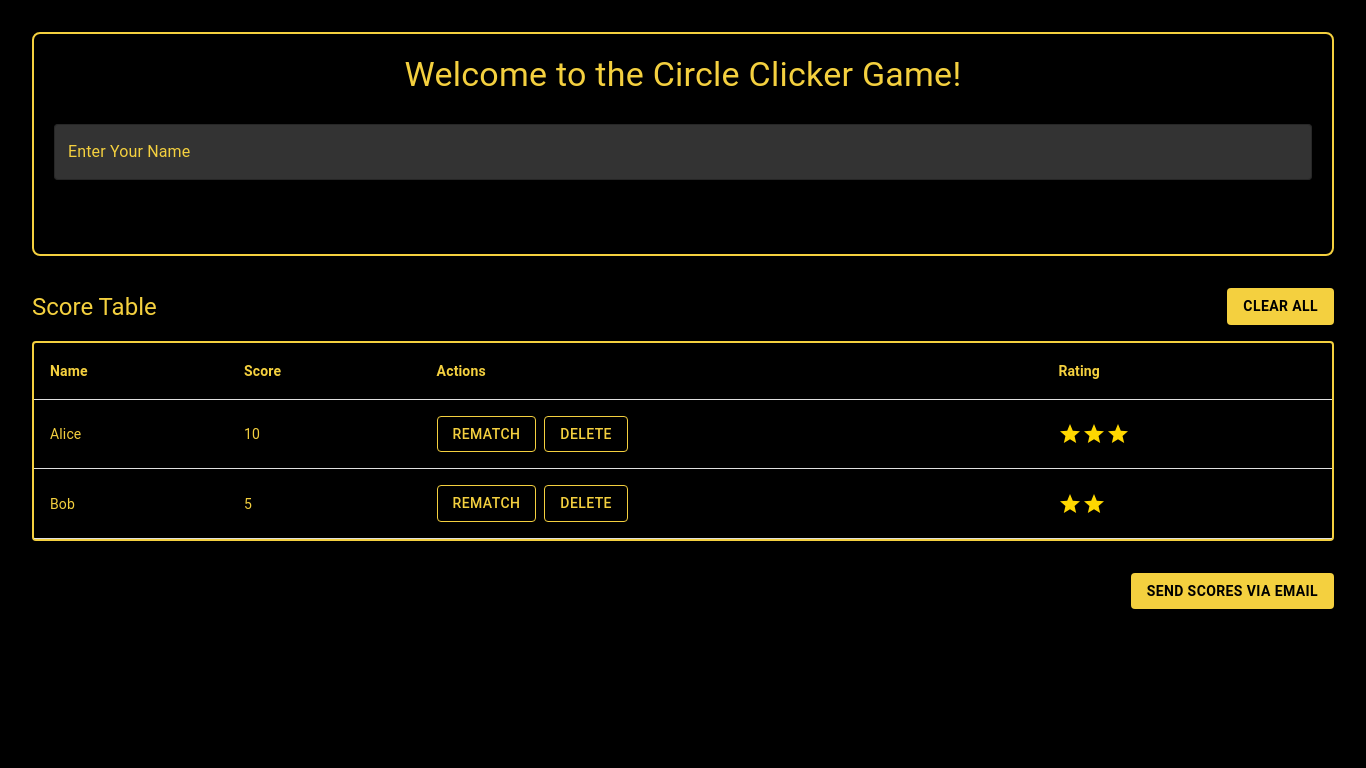
clearing all scores updates the table and shows a success snackbar
Expected: the text "Alice" is shown, [34,399,228,469]
Click the button "CLEAR ALL" at (1281, 307), box [1227,288,1334,325]
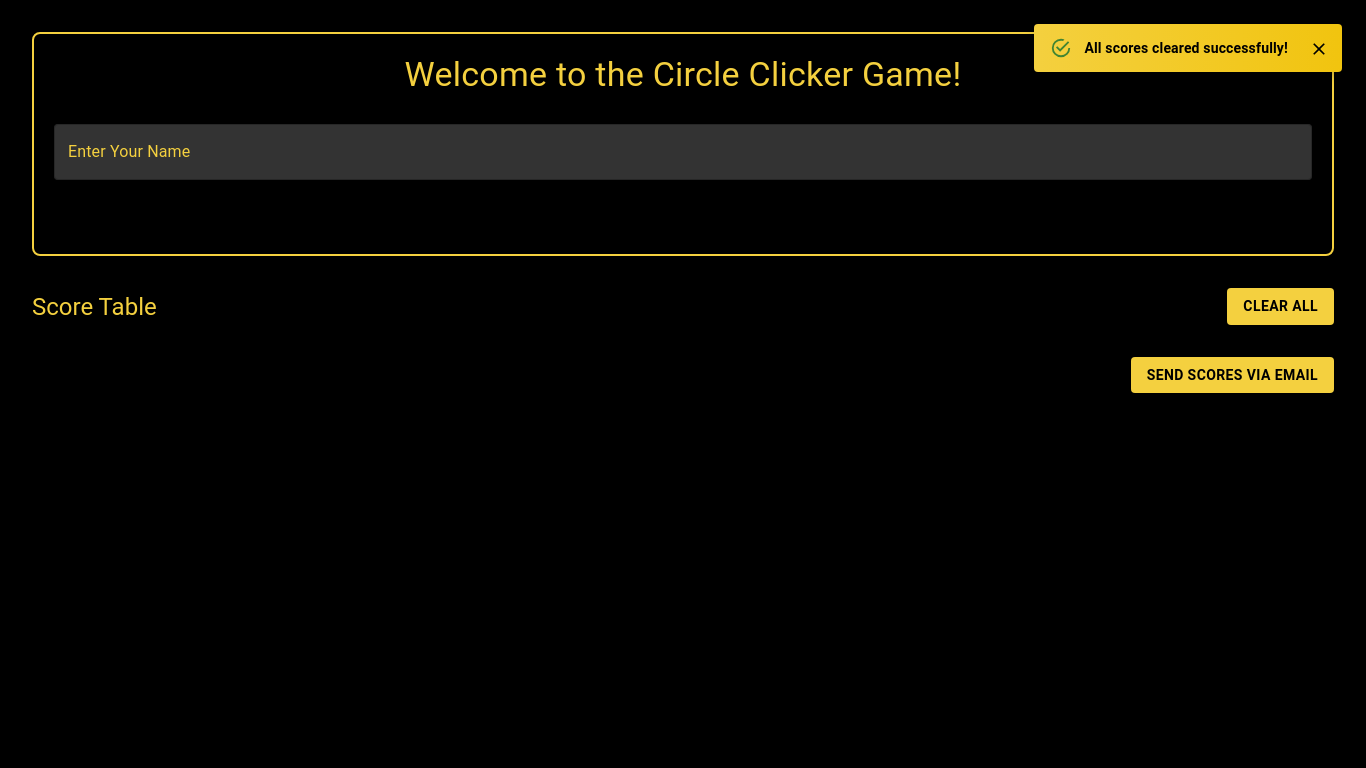
Result: the text "All scores cleared successfully!" is shown at [1084,40,1288,56]
Result: the text "Alice" is gone
Result: the text "Bob" is gone
